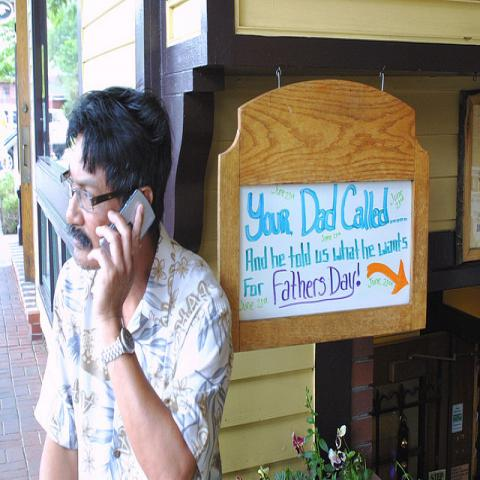car: (0, 128, 18, 170)
